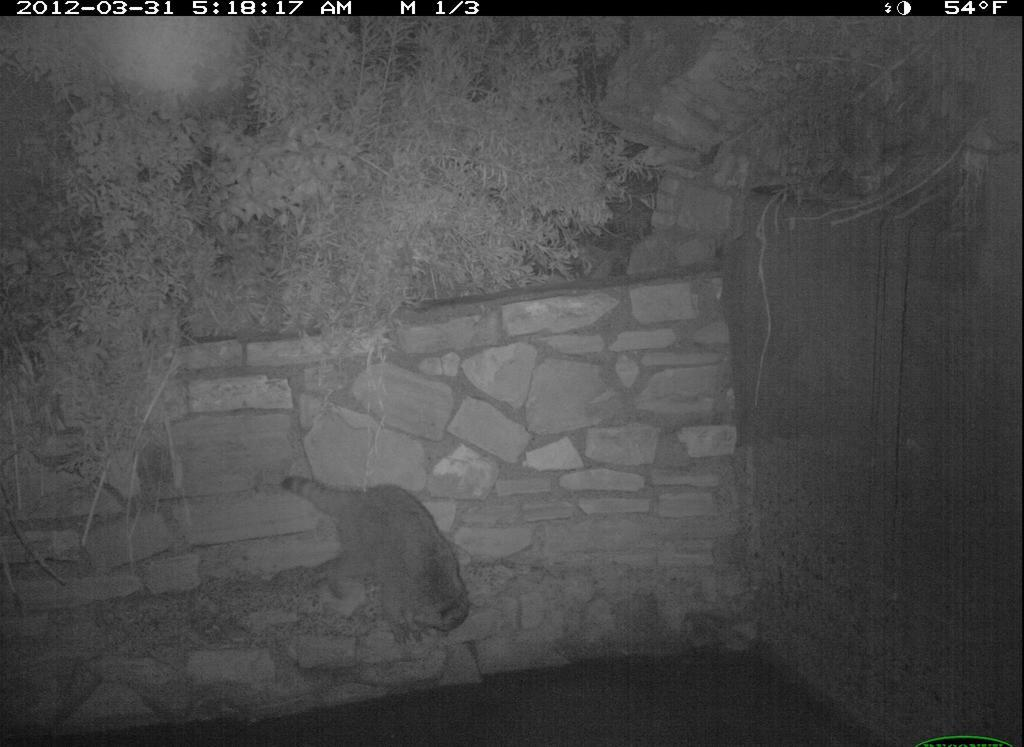raccoon: (277, 466, 478, 629)
